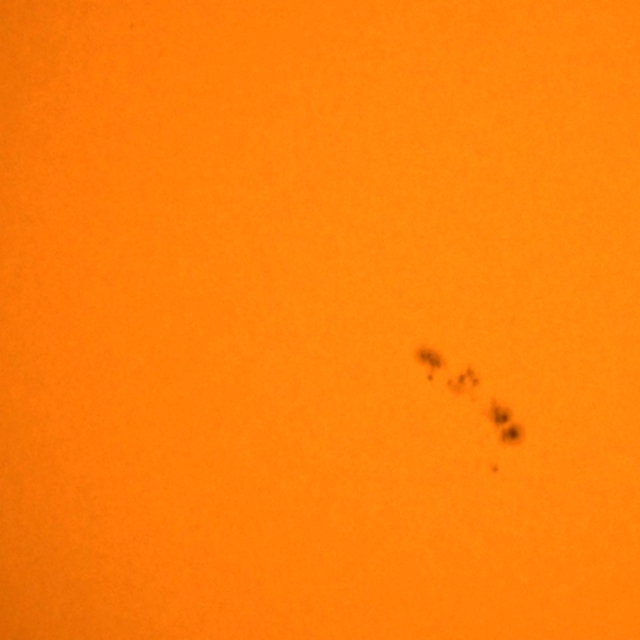sunspot: (426, 358, 483, 396), (490, 402, 524, 448), (414, 344, 446, 386), (489, 462, 501, 477)
